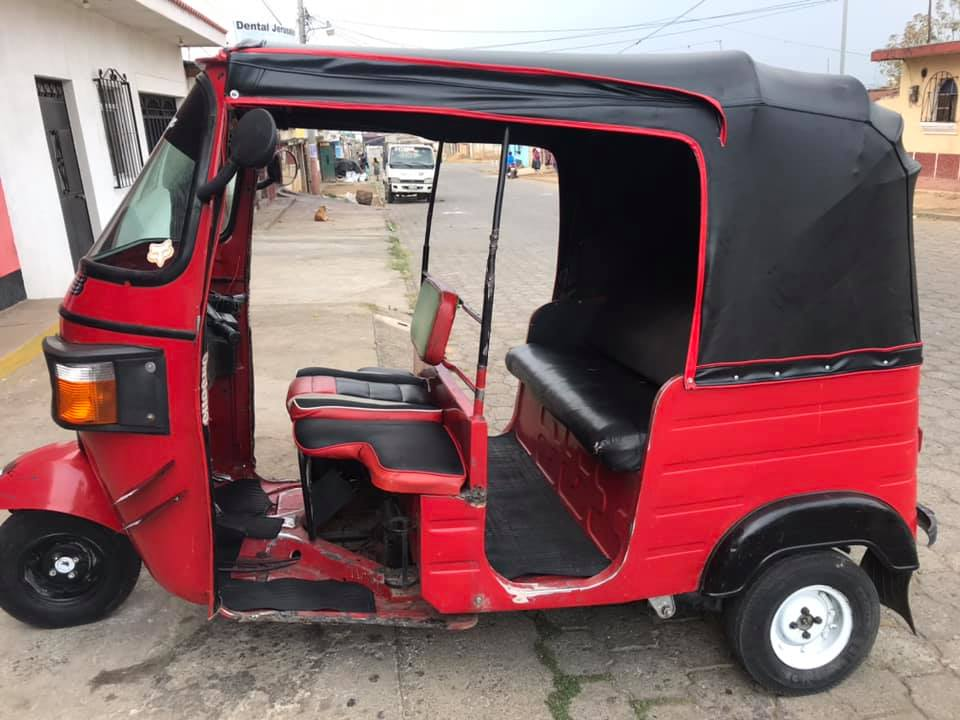mototaxi: (1, 38, 939, 695)
